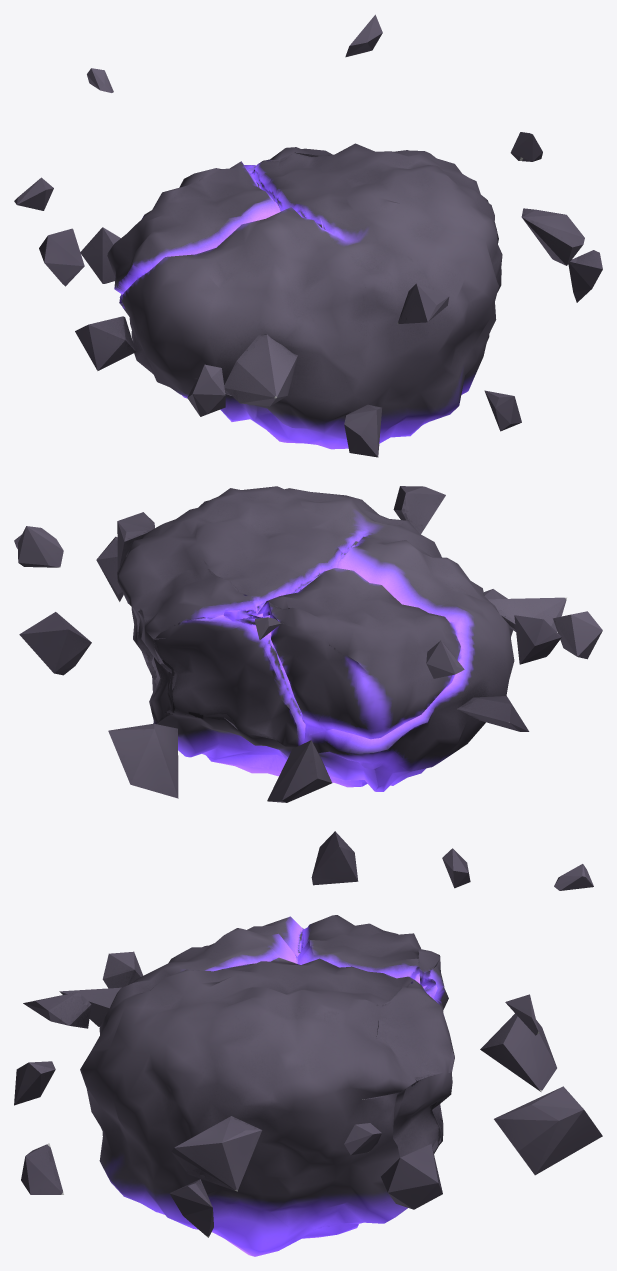
The model's file is roca_gravitacional.fbx.
3 views of the same model, one above another, from view 1: azimuth 30°, elevation 25°; view 2: azimuth 150°, elevation 25°; view 3: azimuth 270°, elevation 25° (orthographic). The views are drawn at different scales.
Parts seen in each view (by area): view 1: roca_gravitacional, roca_gravitacional_orbita; view 2: roca_gravitacional, roca_gravitacional_orbita; view 3: roca_gravitacional, roca_gravitacional_orbita.
Boxes of the visible parts, box(x1,y1,x2,y2) form: roca_gravitacional: box(107, 143, 502, 449); roca_gravitacional_orbita: box(14, 14, 602, 457); roca_gravitacional: box(117, 486, 514, 791); roca_gravitacional_orbita: box(14, 486, 602, 802); roca_gravitacional: box(80, 915, 454, 1256); roca_gravitacional_orbita: box(14, 831, 602, 1237).
Bounding box in the file's own units: 2.97 × 1.54 × 2.69.
2 materials, 2 textured.
